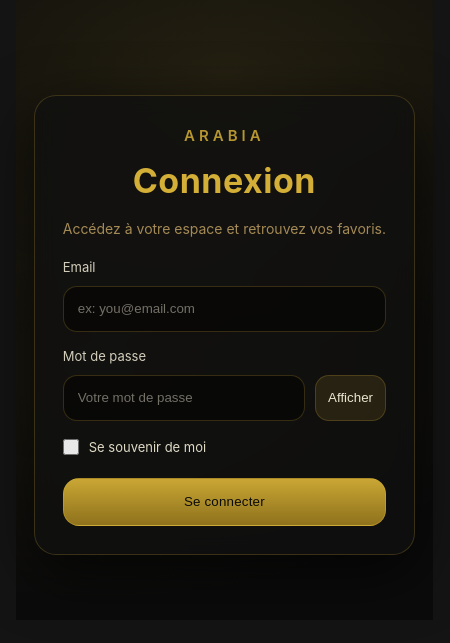
Test: ConnexionView › login KO : affiche "Identifiants incorrects"
Type "admin@test.com" into the field labelled "Email" at (224, 309), box [63,286,386,332]
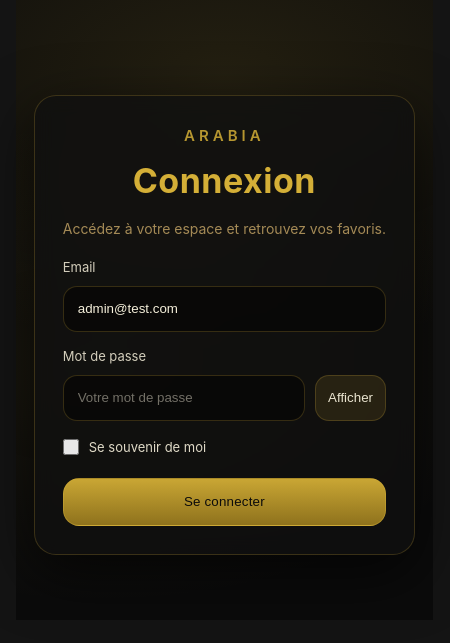
Type "badpassword" into the password field labelled "Mot de passe Afficher" at (184, 398), box [63,375,305,421]
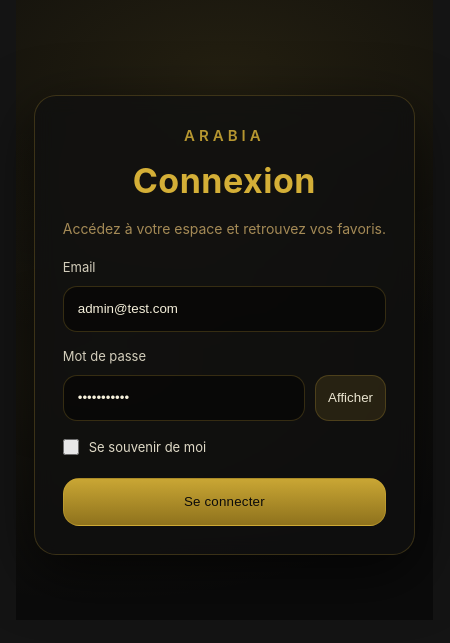
Submit the form, box [63,257,386,526]
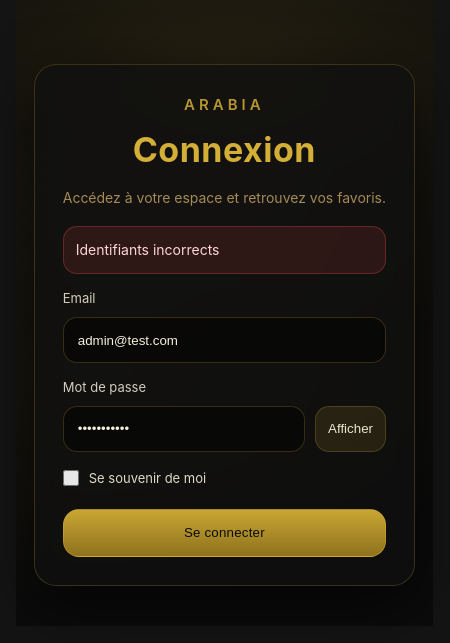
Now the text "Identifiants incorrects" is shown, box [63,226,386,274]
